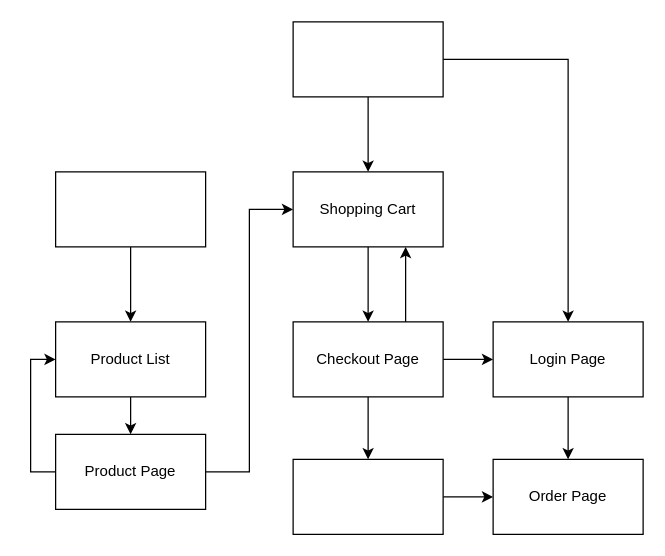
Some shapes in this 665 by 556 pixel diagram are drawn without their labels. Each missing label, with the box of its shape:
Category List: (54, 171, 206, 247)
Home Page: (292, 21, 443, 97)
Payment Page: (292, 458, 443, 534)
